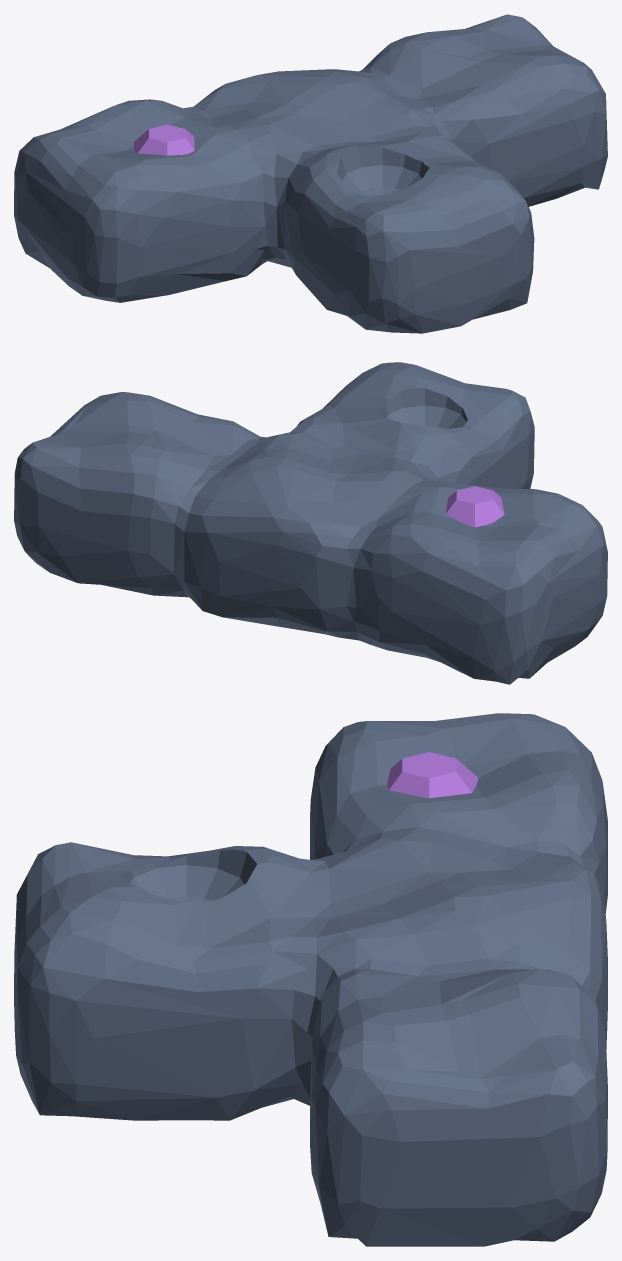
The model's file is AFJ_Asteroid_T.fbx.
The picture shows the model from 3 angles, top to bottom: view 1: azimuth 30°, elevation 25°; view 2: azimuth 150°, elevation 25°; view 3: azimuth 270°, elevation 25°; orthographic projection. The views are drawn at different scales.
Visible parts, largest first — view 1: Rock_T, Crystal_T; view 2: Rock_T, Crystal_T; view 3: Rock_T, Crystal_T.
Boxes of the visible parts, box(x1,y1,x2,y2) form: Rock_T: box(14, 14, 607, 333); Crystal_T: box(134, 124, 194, 155); Rock_T: box(14, 362, 607, 684); Crystal_T: box(446, 486, 504, 527); Rock_T: box(14, 713, 607, 1246); Crystal_T: box(387, 752, 477, 798).
Size of the model in its own units: 301 by 70 by 201.
